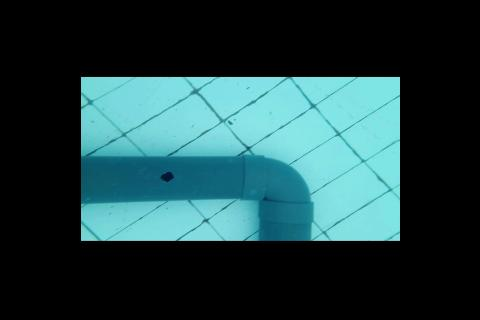kebocoran: (157, 170, 175, 183)
